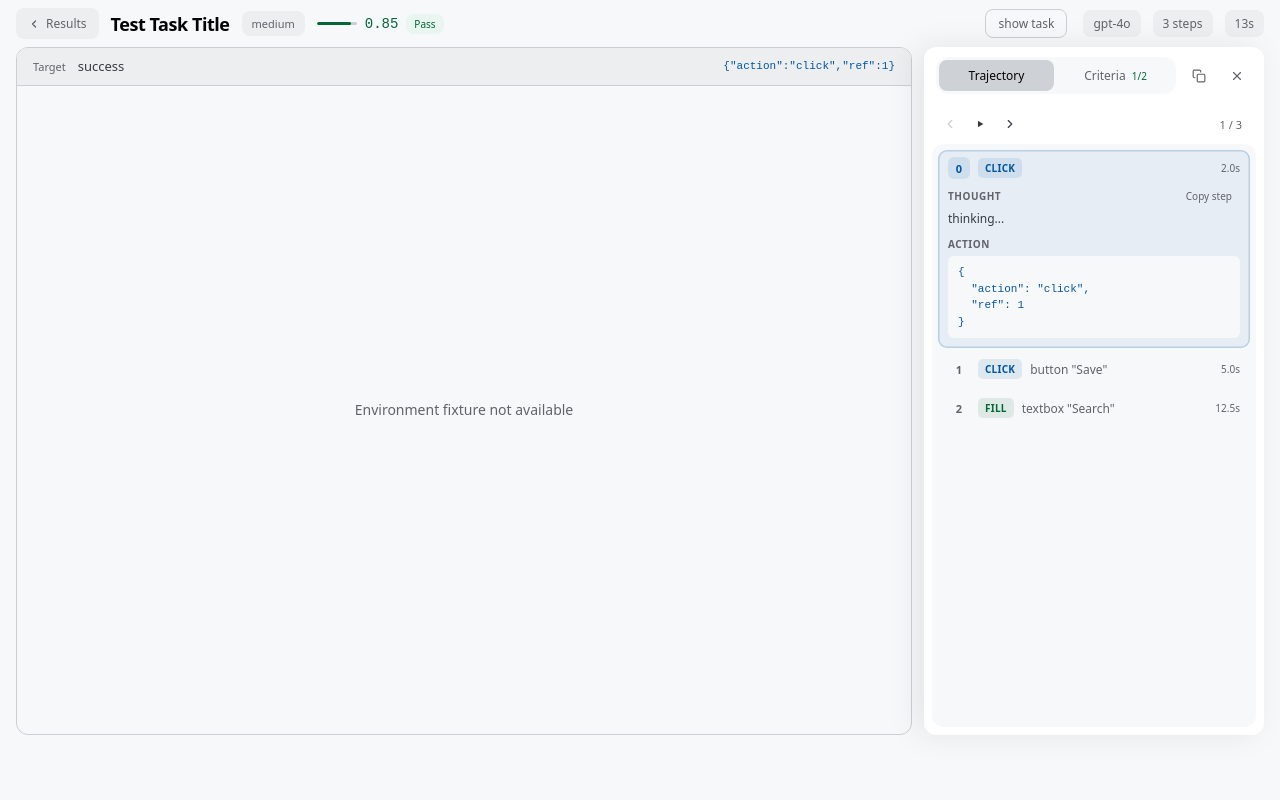
Test: Step navigation (category 5) › toggles instruction panel with show/hide task button
Check: the text "Complete the task by clicking buttons" is not shown
Click the button "show task" at [1026, 24], box [986,9,1068,38]
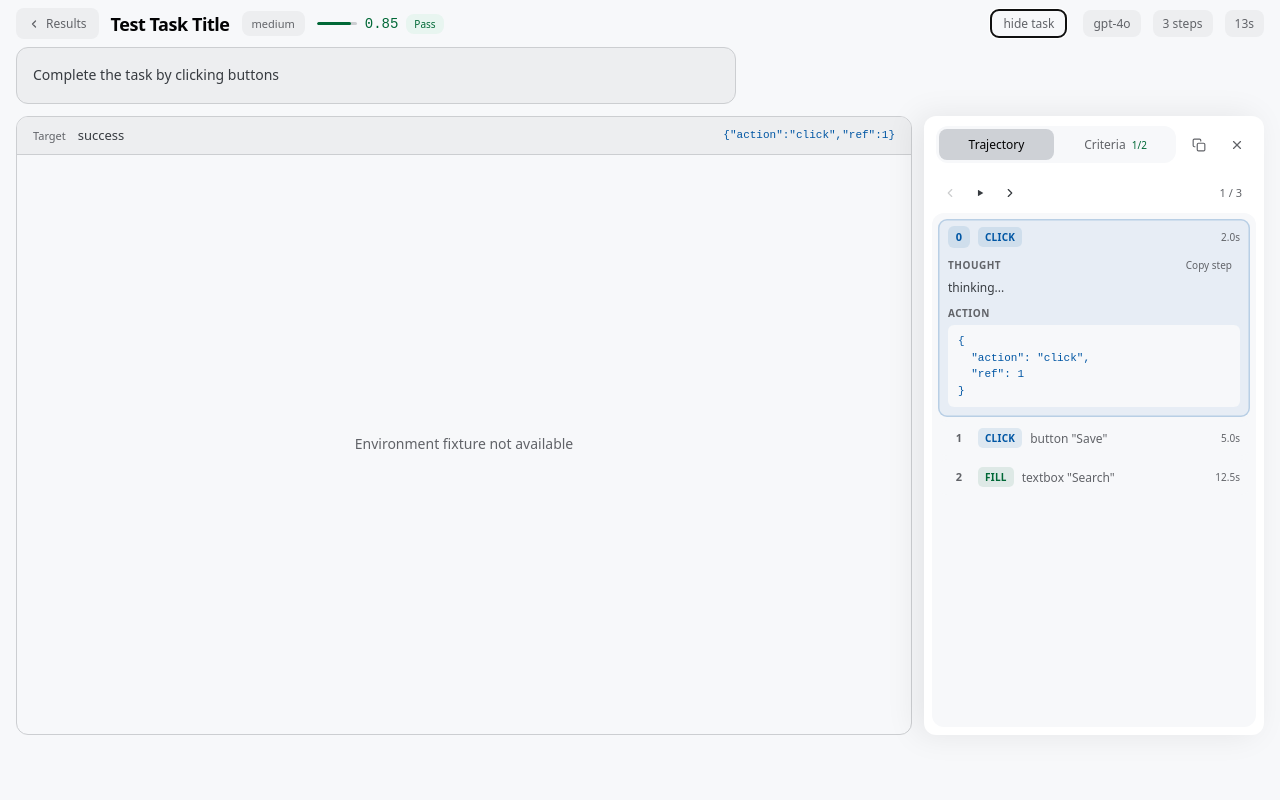
Check: the text "Complete the task by clicking buttons" is shown, box [16,47,736,104]
Check: the button "hide task" is shown
Click the button "hide task" at [1029, 24], box [990,9,1067,38]
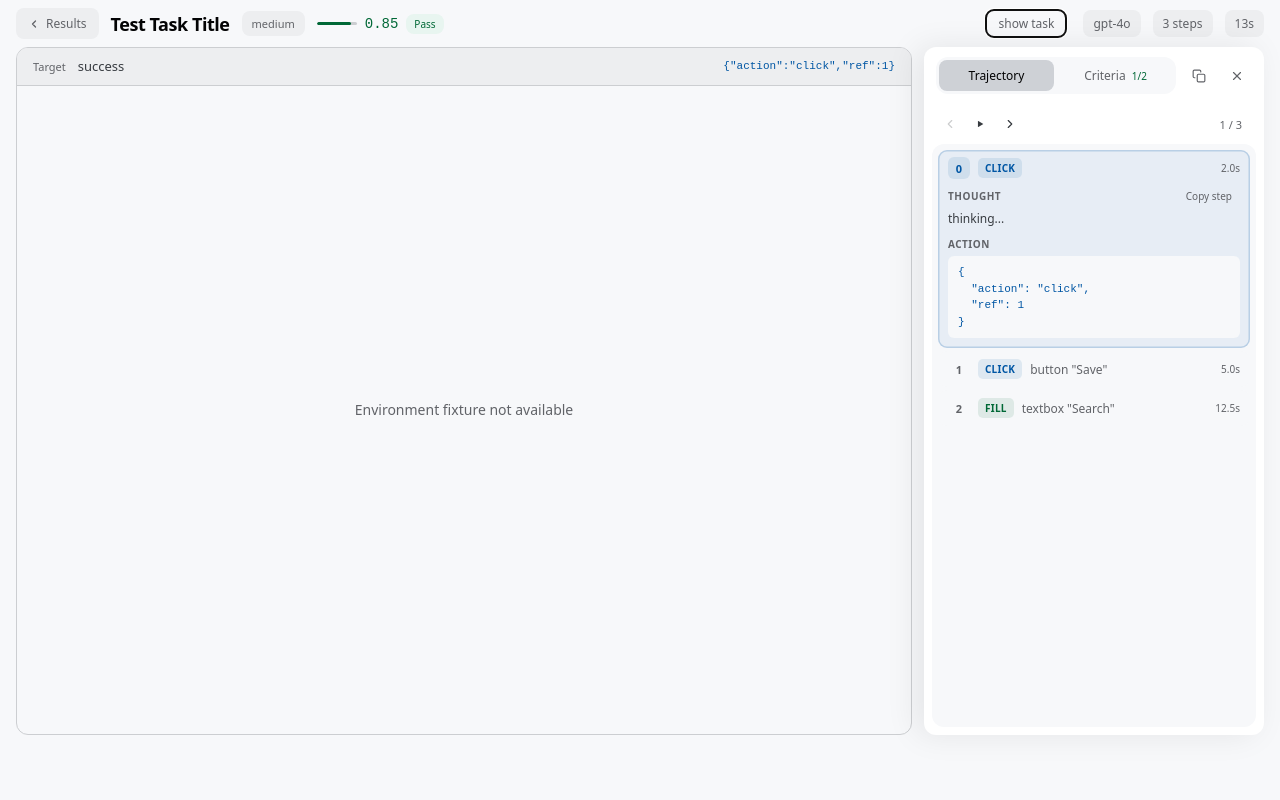
Check: the text "Complete the task by clicking buttons" is gone
